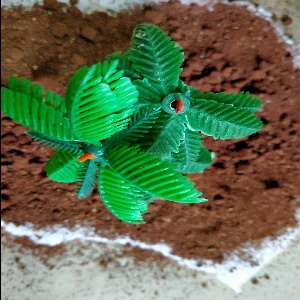plant: (1, 26, 259, 223)
